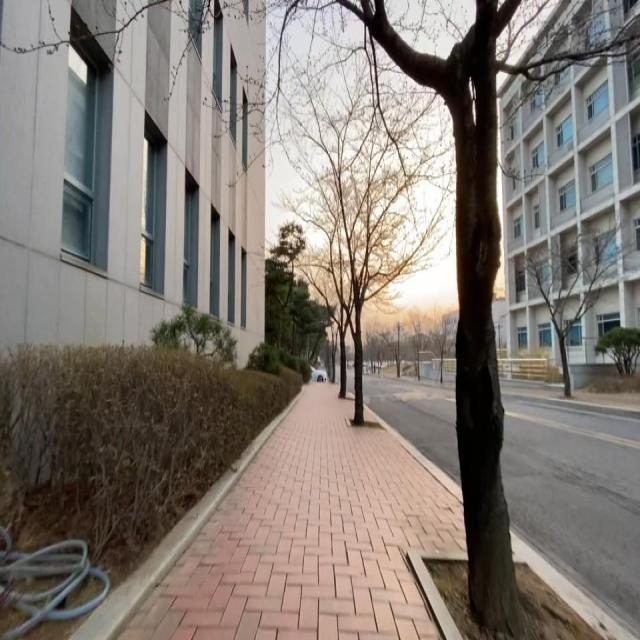sidewalk: (118, 383, 469, 640), (500, 387, 640, 414)
